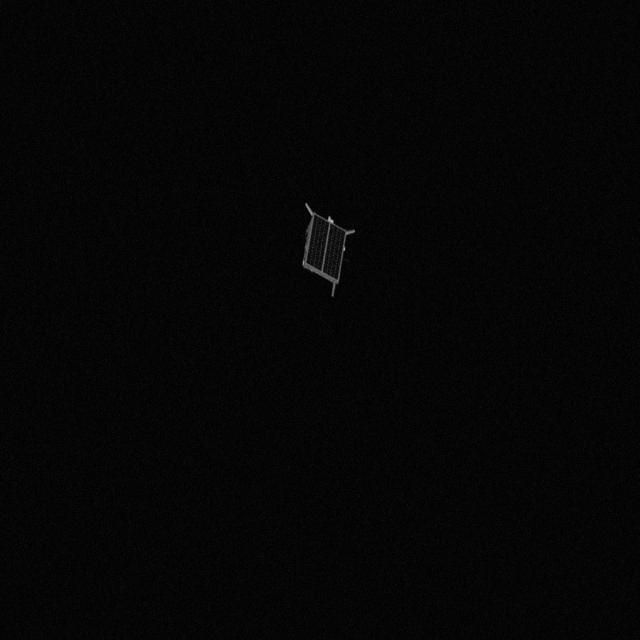medium_debris: (296, 198, 358, 290)
